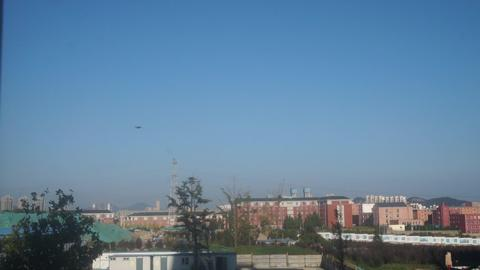UAV: (134, 126, 142, 129)
